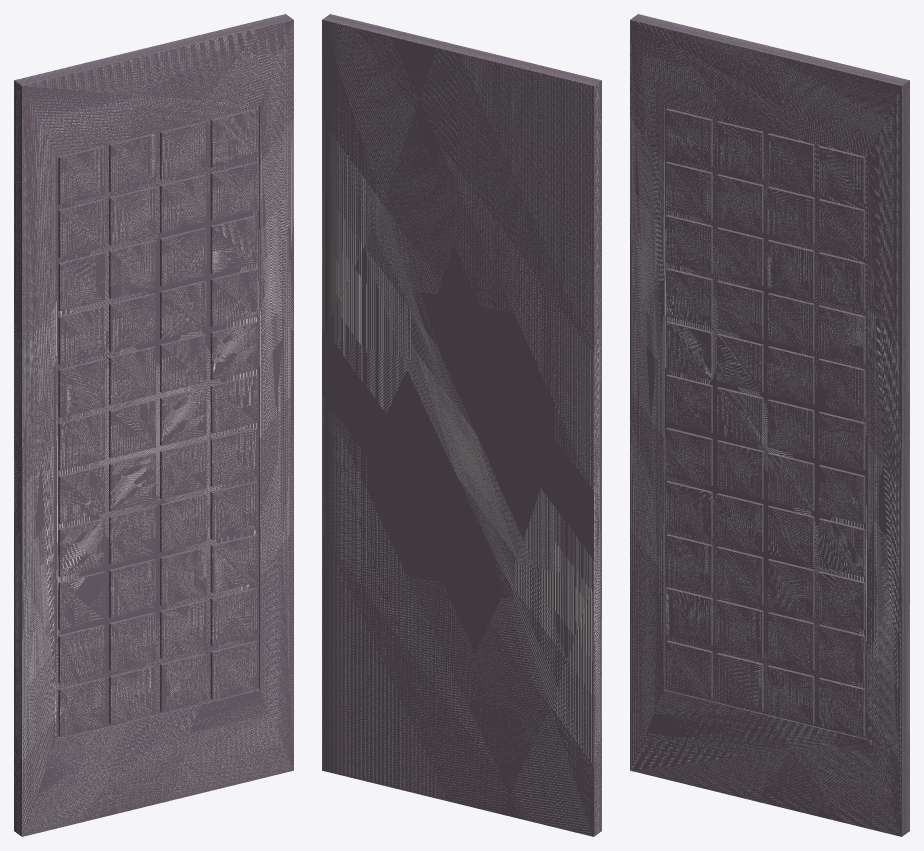
Rendered from board.dae.
3 views of the same model, side by side, from view 1: azimuth 30°, elevation 25°; view 2: azimuth 150°, elevation 25°; view 3: azimuth 330°, elevation 25° (orthographic).
Visible parts, largest first — view 1: group_4.036, group_4.035, instance_22.001, instance_35.001, instance_31.001, instance_28.001, instance_23.001, instance_34.001, instance_33.001, instance_32.001, instance_30.001, instance_29.001 (+34 smaller); view 2: group_4.036; view 3: group_4.036, group_4.035, instance_54.001, instance_53.001, instance_50.001, instance_49.001, instance_30.001, instance_27.001, instance_22.001, instance_52.001, instance_48.001, instance_47.001 (+34 smaller).
Part boxes in pixels (box(x1,y1,x2,y2)): group_4.036: box(14, 14, 293, 836); group_4.035: box(56, 105, 259, 739); instance_22.001: box(210, 587, 257, 646); instance_35.001: box(210, 534, 257, 593); instance_31.001: box(210, 321, 257, 380); instance_28.001: box(210, 268, 257, 327); instance_23.001: box(210, 640, 257, 699); instance_34.001: box(210, 481, 257, 539); instance_33.001: box(210, 428, 257, 486); instance_32.001: box(210, 374, 257, 433); instance_30.001: box(210, 162, 257, 220); instance_29.001: box(210, 215, 257, 273); group_4.036: box(322, 14, 601, 836); group_4.036: box(630, 14, 909, 836); group_4.035: box(664, 105, 867, 739); instance_54.001: box(767, 505, 814, 564); instance_53.001: box(767, 452, 814, 511); instance_50.001: box(767, 186, 814, 245); instance_49.001: box(767, 239, 814, 298); instance_30.001: box(818, 199, 865, 257); instance_27.001: box(818, 145, 865, 204); instance_22.001: box(818, 624, 865, 683); instance_52.001: box(767, 399, 814, 458); instance_48.001: box(767, 293, 814, 351); instance_47.001: box(767, 133, 814, 192).
Bounding box in the file's own units: 0.8019 × 0.0453 × 2.12.
2 materials, 1 textured.
